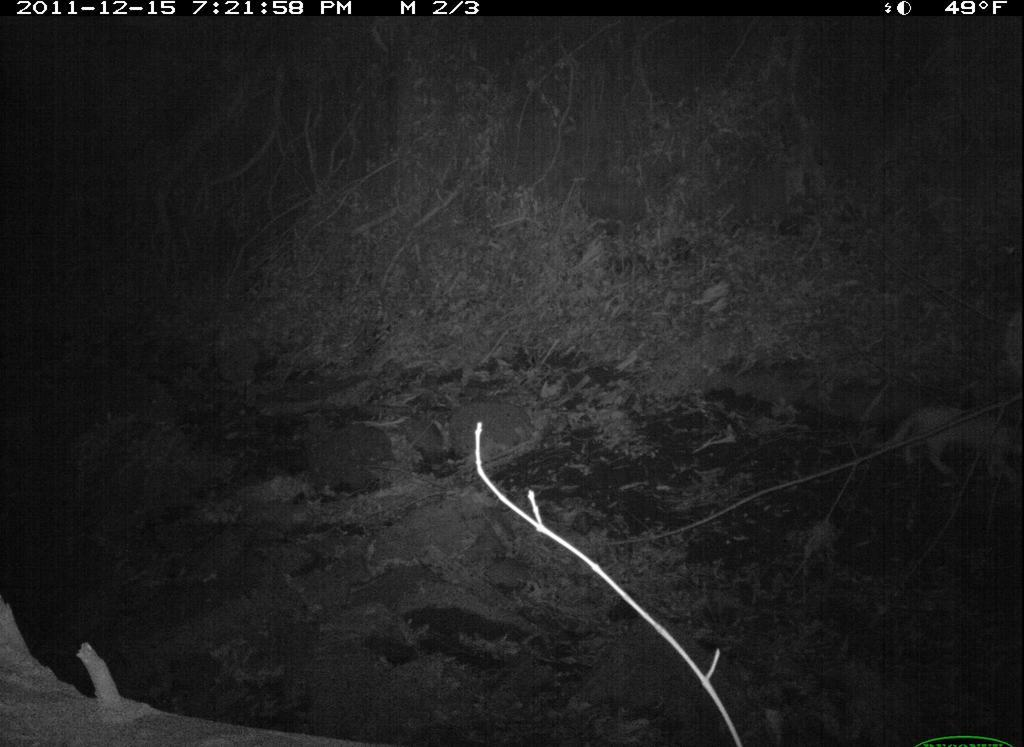squirrel: (863, 402, 1022, 495)
